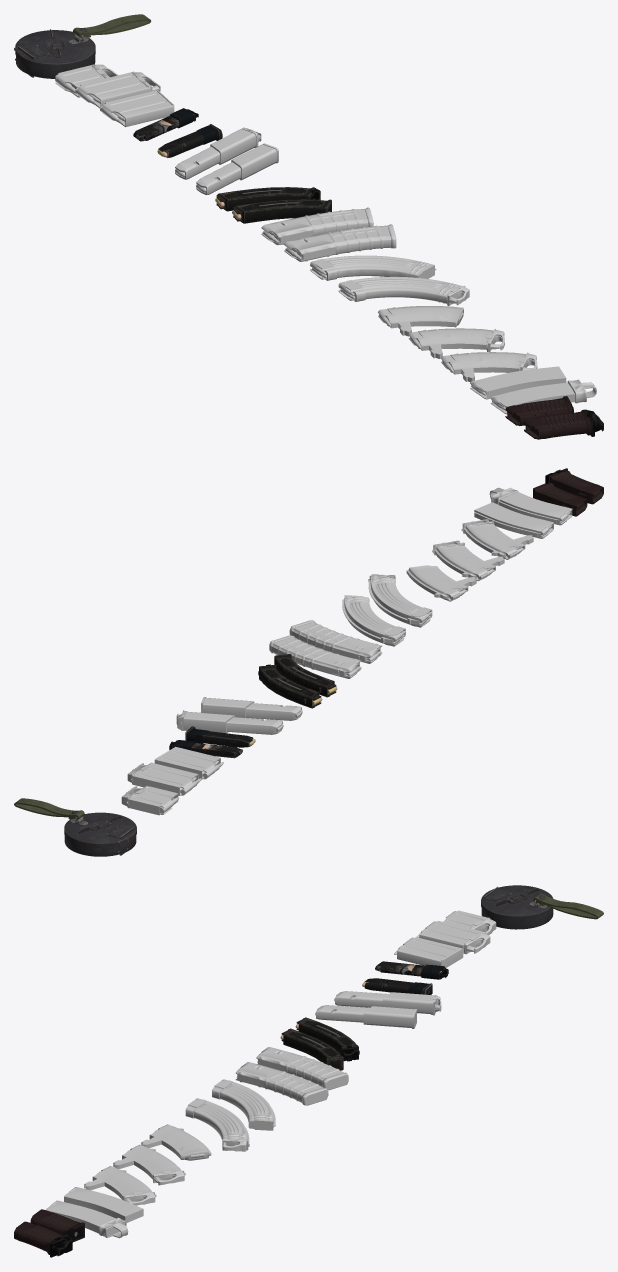
Rendered from ExtendedQuick_Mag.FBX.
The picture shows the model from 3 angles, top to bottom: view 1: azimuth 30°, elevation 25°; view 2: azimuth 150°, elevation 25°; view 3: azimuth 330°, elevation 25°; orthographic projection. The views are drawn at different scales.
Parts seen in each view (by area): view 1: Large_Extended_Magazine_01 (×2), THOMPSON_Mag_EQ_Set, GROZA_Mag_EQ_Set, Large_Extended_Magazine_AKM, Large_ExtendedQuickDraw_Magazine_SKS_setting, Large_QucikDraw_Magazine_SKS_setting, Medium_ExtendedQuickDraw_Magazine_Vector_setting, Medium_Extended_Magazine_Vector_setting, SR_Extended_Mag_AWM_01, Large_Extended_Magazine_SKS_setting, Medium_Extended_Magazine_Ump_01, Mini14_Mag_E_Set (+8 smaller); view 2: Large_Extended_Magazine_01 (×2), THOMPSON_Mag_EQ_Set, Medium_ExtendedQuickDraw_Magazine_Vector_setting, GROZA_Mag_EQ_Set, Large_Extended_Magazine_AKM, Medium_Extended_Magazine_Vector_setting, SR_ExtendedQuick_Mag_AWM_01, Mini14_Mag_EQ_Set, Large_QucikDraw_Magazine_SKS_setting, Large_ExtendedQuickDraw_Magazine_SKS_setting, Mini14_Mag_E_Set, Large_Extended_Magazine_SKS_setting (+8 smaller); view 3: Large_Extended_Magazine_01 (×2), THOMPSON_Mag_EQ_Set, Medium_Extended_Magazine_Vector_setting, GROZA_Mag_EQ_Set, Medium_ExtendedQuickDraw_Magazine_Vector_setting, Large_Extended_Magazine_AKM, Large_ExtendedQuickDraw_Magazine_SKS_setting, Large_QucikDraw_Magazine_SKS_setting, SR_Extended_Mag_AWM_01, Mini14_Mag_EQ_Set, Mini14_Mag_E_Set, SR_ExtendedQuick_Mag_AWM_01 (+8 smaller).
Boxes of the visible parts, x1,y1,x2,y2 form: Large_Extended_Magazine_01 (×2): [261, 207, 396, 261]; THOMPSON_Mag_EQ_Set: [14, 14, 151, 78]; GROZA_Mag_EQ_Set: [338, 276, 469, 305]; Large_Extended_Magazine_AKM: [310, 255, 436, 280]; Large_ExtendedQuickDraw_Magazine_SKS_setting: [408, 328, 504, 358]; Large_QucikDraw_Magazine_SKS_setting: [441, 352, 537, 382]; Medium_ExtendedQuickDraw_Magazine_Vector_setting: [175, 127, 261, 179]; Medium_Extended_Magazine_Vector_setting: [196, 143, 278, 194]; SR_Extended_Mag_AWM_01: [100, 90, 174, 127]; Large_Extended_Magazine_SKS_setting: [378, 306, 463, 336]; Medium_Extended_Magazine_Ump_01: [232, 199, 331, 223]; Mini14_Mag_E_Set: [470, 366, 566, 399]; Large_Extended_Magazine_01 (×2): [269, 620, 382, 678]; THOMPSON_Mag_EQ_Set: [14, 798, 136, 856]; Medium_ExtendedQuickDraw_Magazine_Vector_setting: [176, 710, 283, 734]; GROZA_Mag_EQ_Set: [368, 574, 432, 627]; Large_Extended_Magazine_AKM: [342, 595, 405, 646]; Medium_Extended_Magazine_Vector_setting: [201, 697, 302, 720]; SR_ExtendedQuick_Mag_AWM_01: [127, 762, 201, 795]; Mini14_Mag_EQ_Set: [489, 487, 572, 525]; Large_QucikDraw_Magazine_SKS_setting: [461, 519, 533, 559]; Large_ExtendedQuickDraw_Magazine_SKS_setting: [432, 540, 504, 581]; Mini14_Mag_E_Set: [474, 502, 553, 538]; Large_Extended_Magazine_SKS_setting: [406, 565, 476, 601]; Large_Extended_Magazine_01 (×2): [235, 1047, 348, 1105]; THOMPSON_Mag_EQ_Set: [481, 885, 603, 929]; Medium_Extended_Magazine_Vector_setting: [315, 1005, 416, 1028]; GROZA_Mag_EQ_Set: [185, 1098, 249, 1151]; Medium_ExtendedQuickDraw_Magazine_Vector_setting: [334, 991, 441, 1015]; Large_Extended_Magazine_AKM: [212, 1079, 275, 1130]; Large_ExtendedQuickDraw_Magazine_SKS_setting: [113, 1144, 185, 1185]; Large_QucikDraw_Magazine_SKS_setting: [84, 1166, 156, 1205]; SR_Extended_Mag_AWM_01: [394, 937, 463, 967]; Mini14_Mag_EQ_Set: [46, 1200, 128, 1238]; Mini14_Mag_E_Set: [64, 1187, 143, 1222]; SR_ExtendedQuick_Mag_AWM_01: [417, 921, 490, 954].
Size of the model in its own units: 32.07 by 7.05 by 229.
